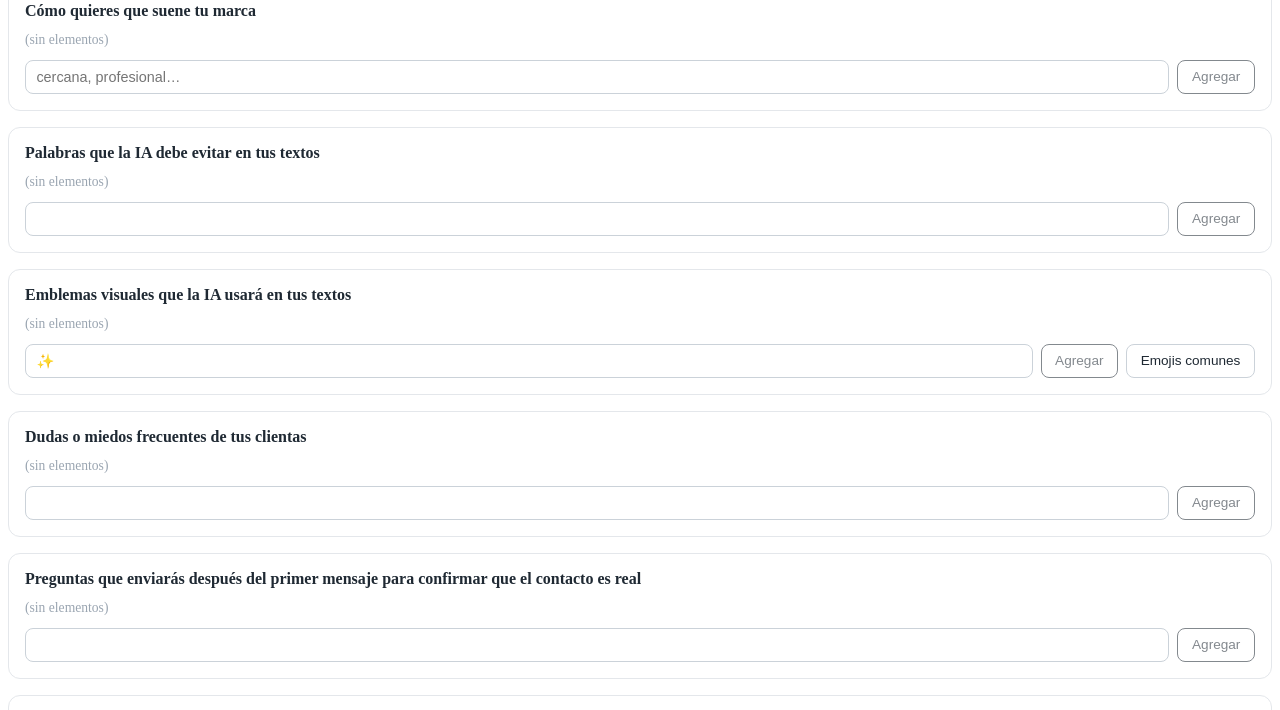
Test case: BusinessProfileForm › abre el popover, agrega un emoji común al listado y cierra el diálogo
This screenshot has width=1280, height=710.
(page scrolled)
expect the field named "agregar emblemas visuales" is shown: met, box [25,344,1032,378]
Click the button "Emojis comunes".
click(1191, 361)  # box [1126,344,1255,378]
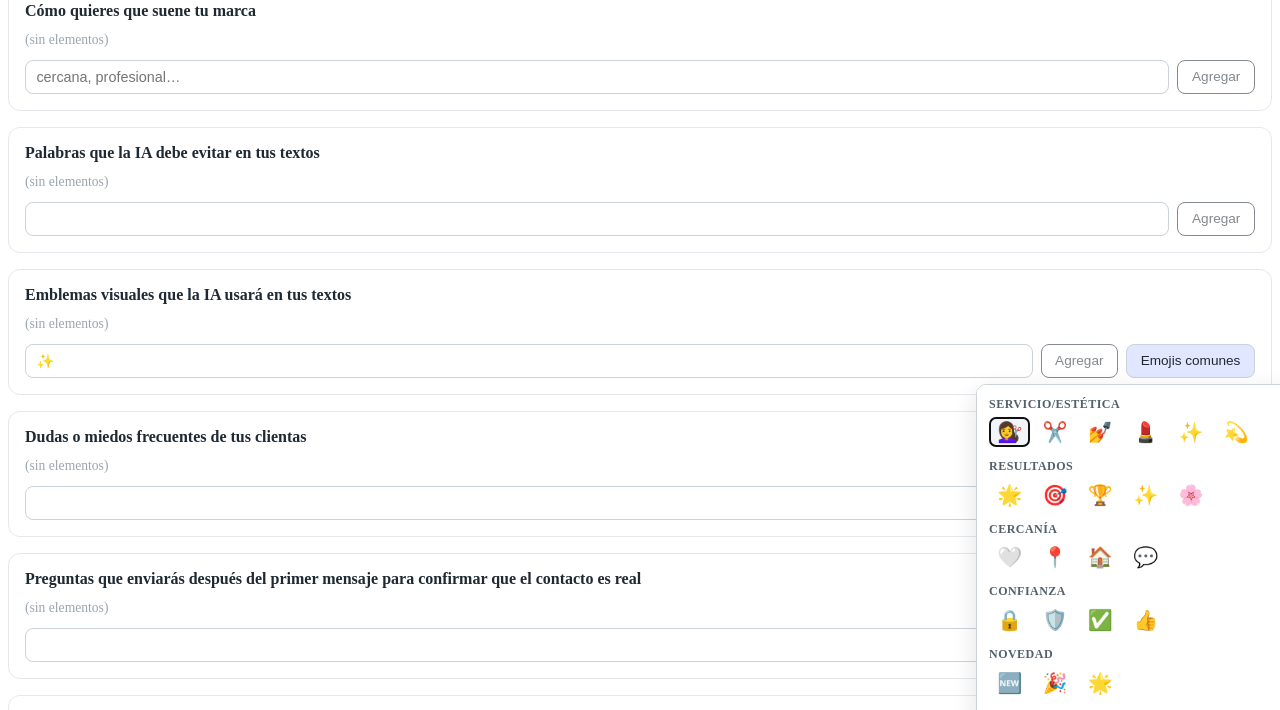
expect the button "Emojis comunes" is expanded: met, box [1126,344,1255,378]
expect the text "Servicio/Estética" is shown: met, box [989,397,1120,411]
expect the text "Cercanía" is shown: met, box [989,522,1058,536]
Click the button with test id "emoji-popover-💇‍♀️".
click(1010, 432)  # box [989,417,1030,447]
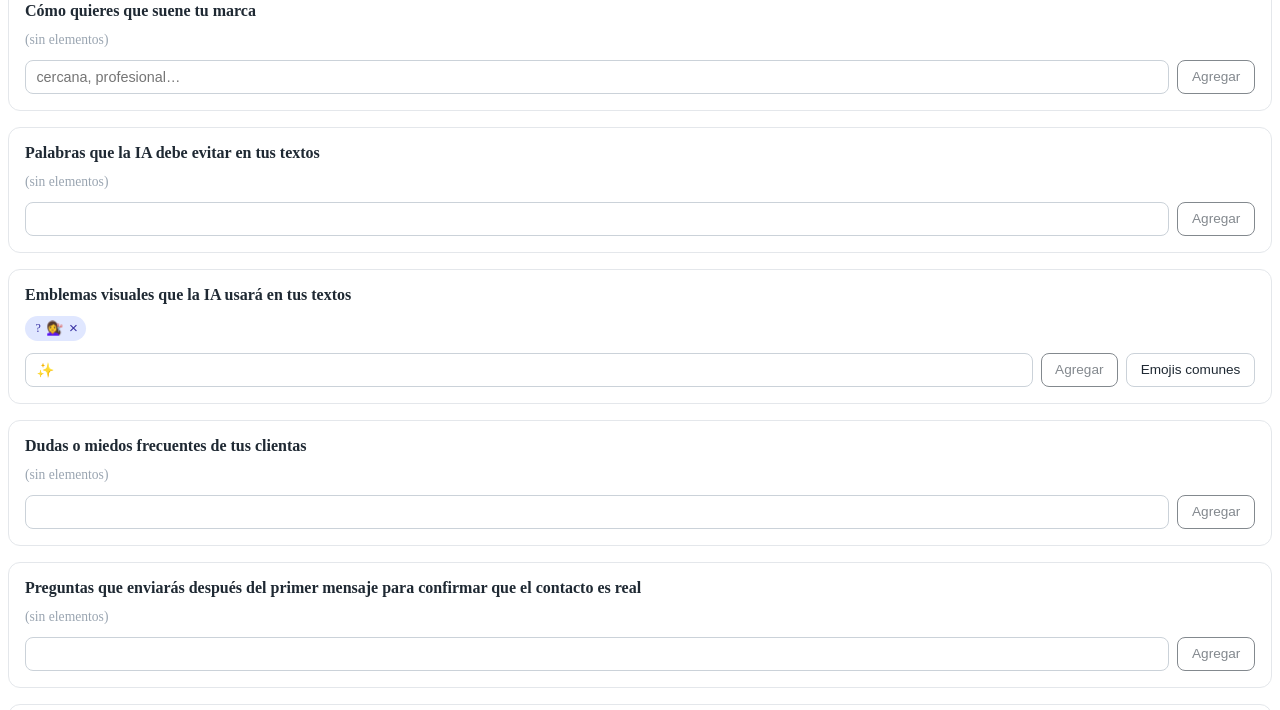
expect the element with test id "bp-chip-preferredEmojiSemantics-💇‍♀️" is shown: met, box [25,316,86,341]
